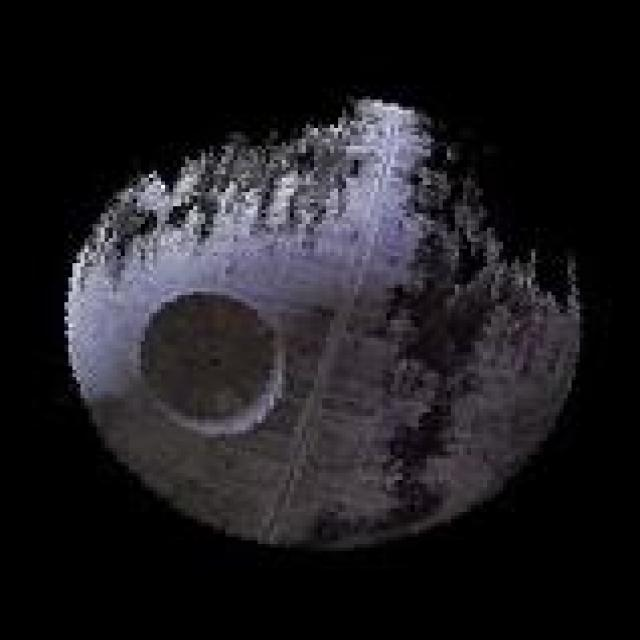Death Star: (52, 89, 588, 555)
